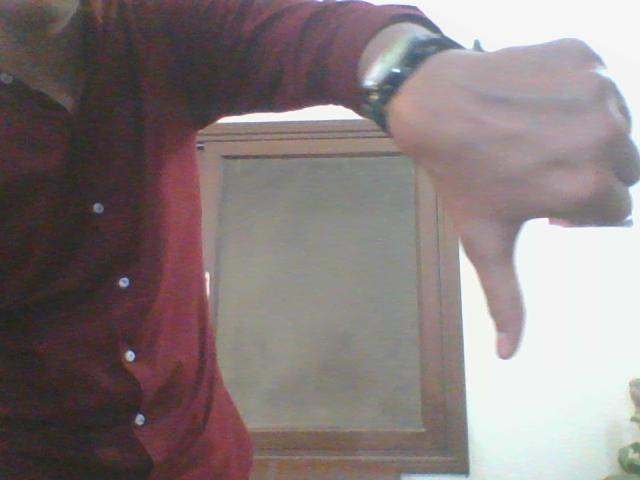thumbs-down: (453, 40, 636, 360)
